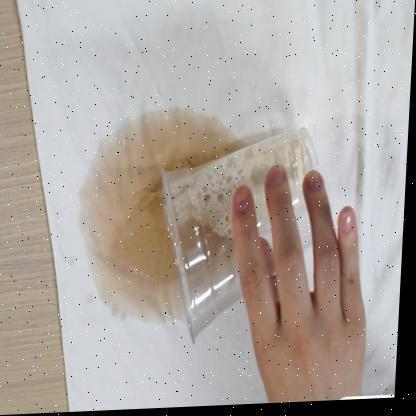coffee: (91, 171, 160, 295), (125, 121, 213, 157)
